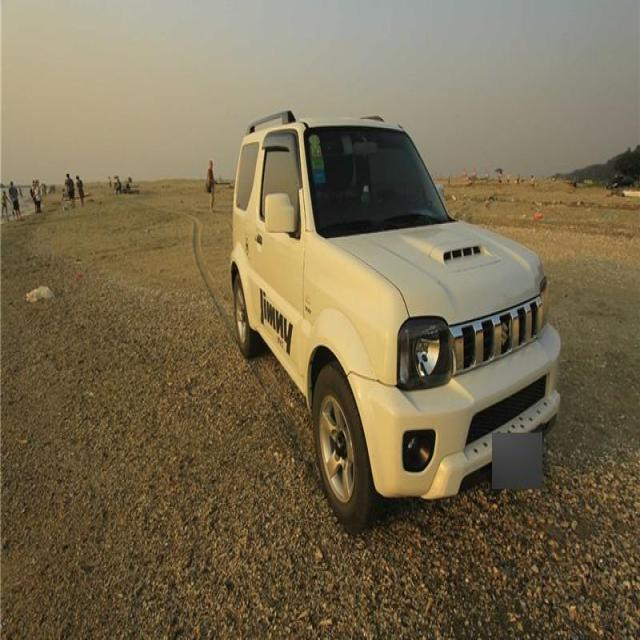front_bumper: (339, 318, 563, 502)
front_glass: (303, 129, 455, 241)
front_left_side_light: (539, 274, 551, 329)
front_right_side_door: (255, 124, 308, 384)
front_right_side_light: (396, 312, 454, 393)
front_right_side_mirror: (263, 188, 298, 237)
wheel: (312, 362, 384, 538), (232, 270, 267, 355)
